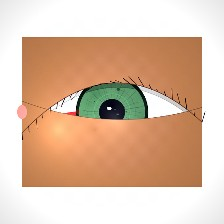hemorrhage_spot: (45, 95, 112, 148)
